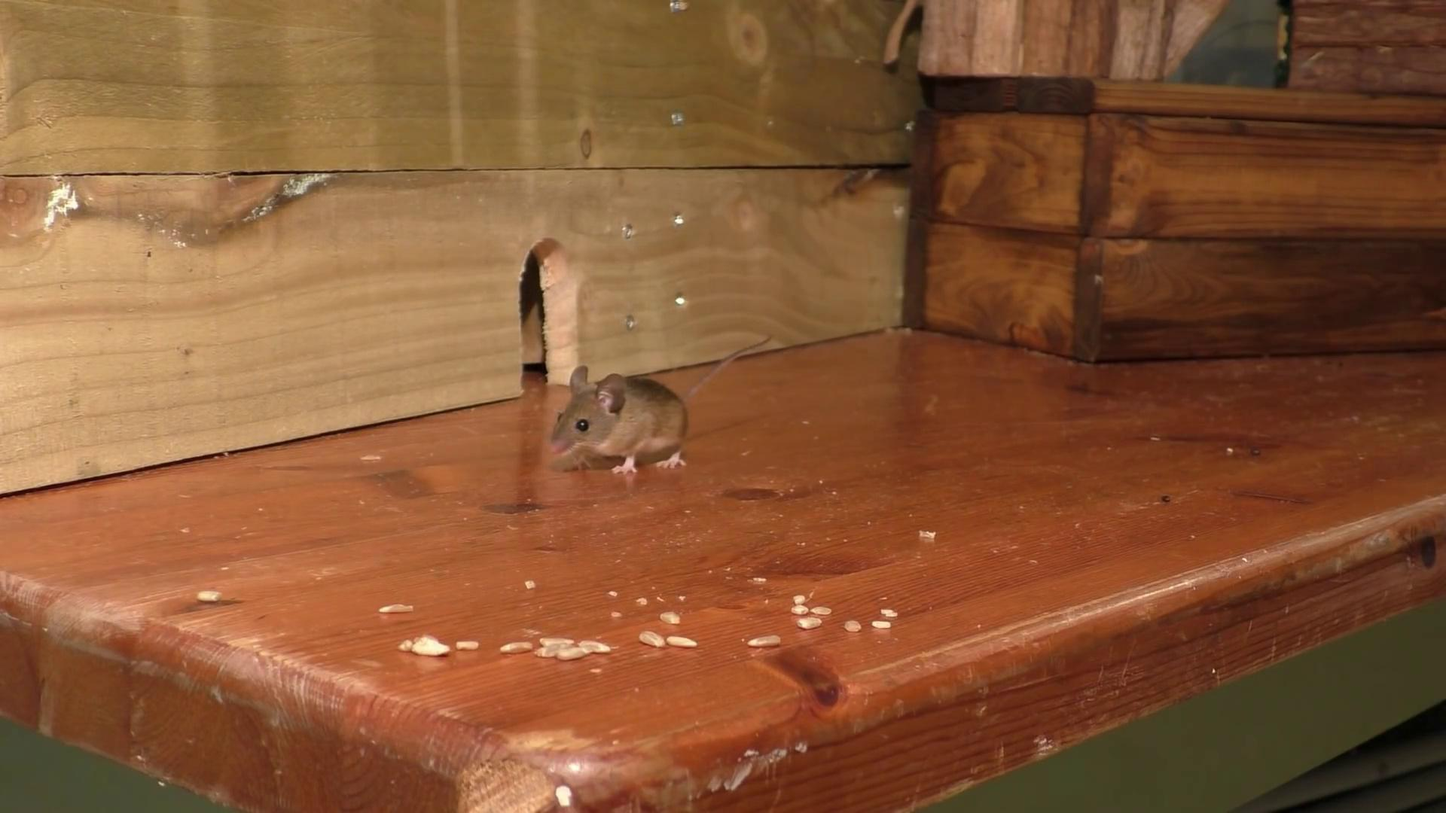rat: (546, 335, 772, 474)
